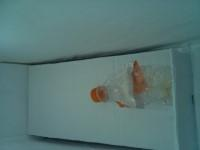bottle: (82, 63, 180, 118)
